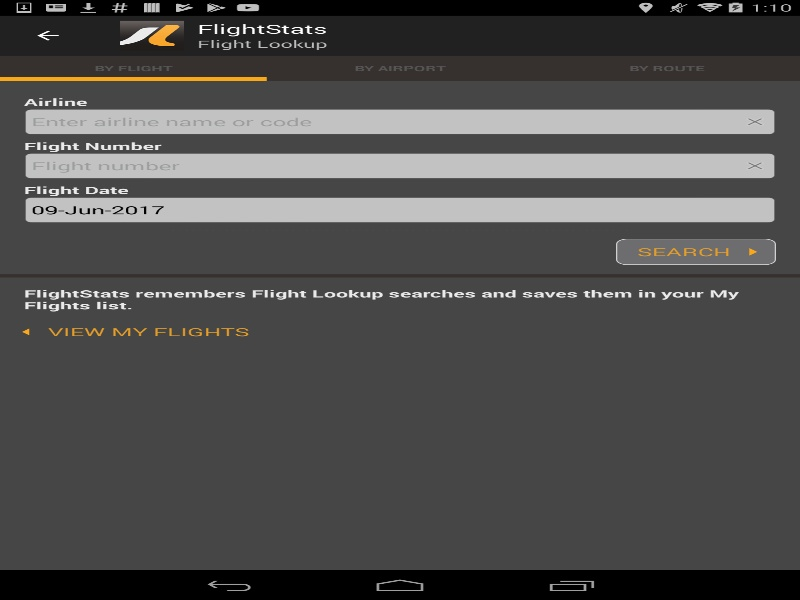Button: (616, 238, 776, 265), (10, 15, 85, 55)
Input: (24, 152, 776, 179)
